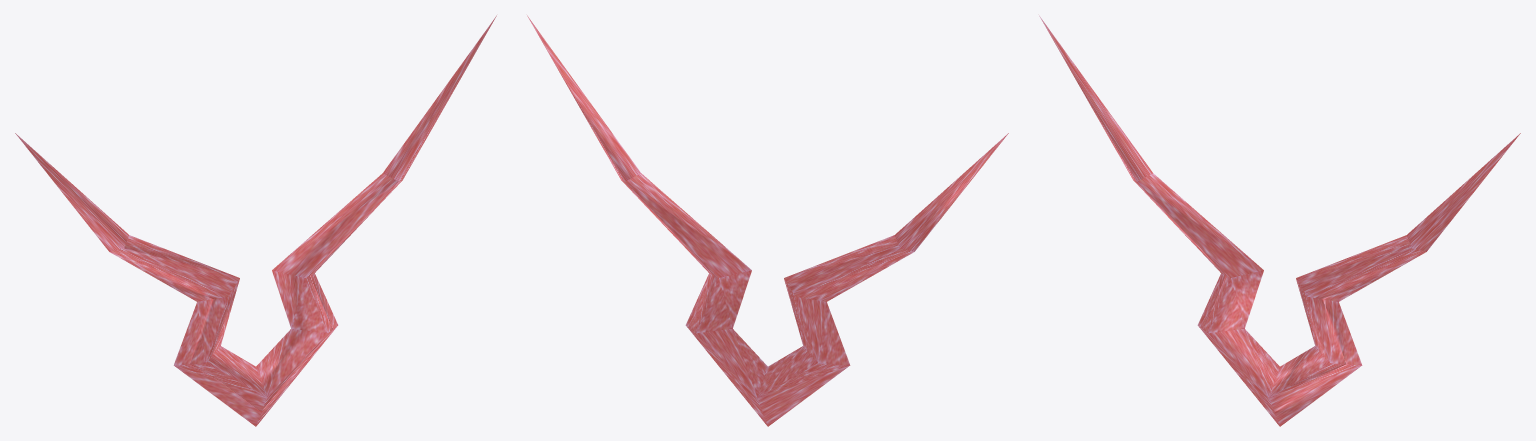
The model's file is ps2_save-icons_cherryblossom.glb.
The picture shows the model from 3 angles, left to right: view 1: azimuth 30°, elevation 25°; view 2: azimuth 150°, elevation 25°; view 3: azimuth 330°, elevation 25°; orthographic projection.
Visible parts, largest first — view 1: cherry.ico; view 2: cherry.ico; view 3: cherry.ico.
Boxes of the visible parts, x1,y1,x2,y2 form: cherry.ico: (15,15,496,426); cherry.ico: (527,15,1008,426); cherry.ico: (1039,15,1520,426).
Bounding box in the file's own units: 4.73 × 3.31 × 0.3643.
1 material, 1 textured.
